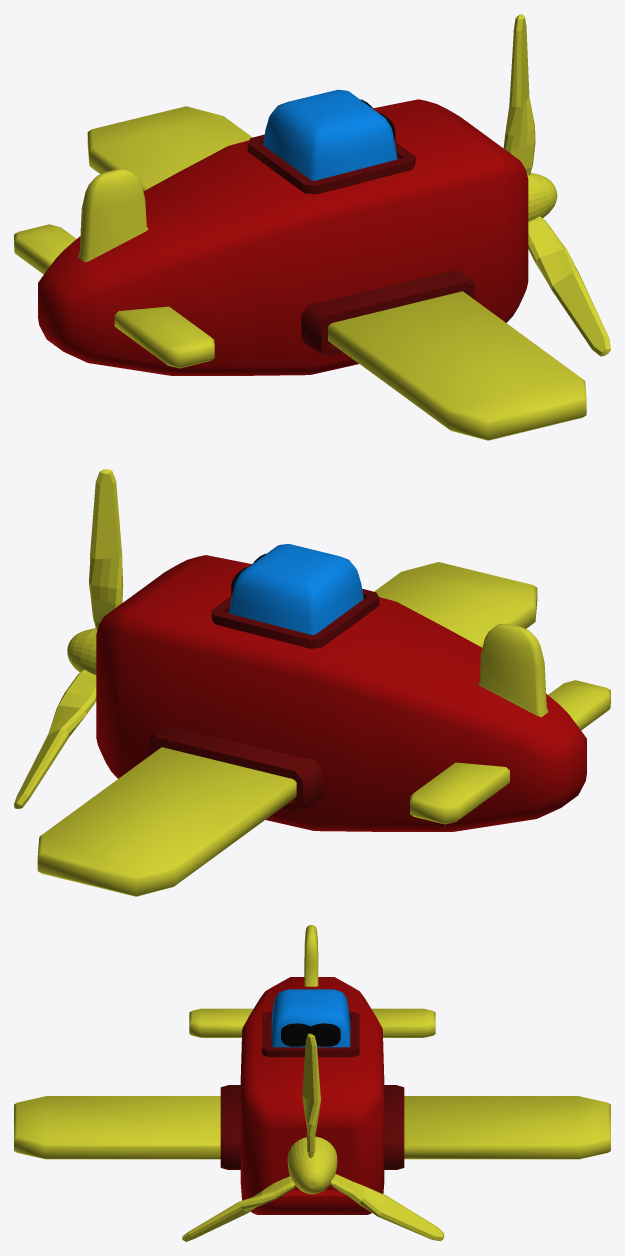
Rendered from EnemyPlane.fbx.
3 renders of one model, top to bottom at view 1: azimuth 30°, elevation 25°; view 2: azimuth 150°, elevation 25°; view 3: azimuth 270°, elevation 25°, orthographic. The views are drawn at different scales.
Visible parts, largest first — view 1: base_low, wing_low, pilot_low, propeller_low1, wingback_low, wingsup_low, taile_low, topsup_low; view 2: base_low, wing_low, pilot_low, propeller_low1, wingback_low, wingsup_low, taile_low, topsup_low; view 3: wing_low, base_low, propeller_low1, wingsup_low, wingback_low, pilot_low, topsup_low, glass_low, taile_low.
Part boxes in pixels (<box>): base_low: <box>38,99,528,375</box>; wing_low: <box>87,106,586,440</box>; pilot_low: <box>263,89,397,180</box>; propeller_low1: <box>503,14,610,356</box>; wingback_low: <box>14,224,214,368</box>; wingsup_low: <box>301,269,474,355</box>; taile_low: <box>78,169,148,262</box>; topsup_low: <box>247,134,415,194</box>; base_low: <box>96,555,586,831</box>; wing_low: <box>37,562,537,896</box>; pilot_low: <box>229,544,363,634</box>; propeller_low1: <box>14,469,123,808</box>; wingback_low: <box>410,680,610,824</box>; wingsup_low: <box>149,725,323,811</box>; taile_low: <box>478,623,548,717</box>; topsup_low: <box>211,589,379,648</box>; wing_low: <box>14,1096,610,1159</box>; base_low: <box>240,977,384,1214</box>; propeller_low1: <box>182,1033,444,1241</box>; wingsup_low: <box>220,1085,404,1169</box>; wingback_low: <box>189,1008,435,1037</box>; pilot_low: <box>271,989,350,1047</box>; topsup_low: <box>262,1011,359,1057</box>; glass_low: <box>281,1023,340,1046</box>; taile_low: <box>304,925,318,986</box>.
Bounding box in the file's own units: 1109 × 584 × 1520.
